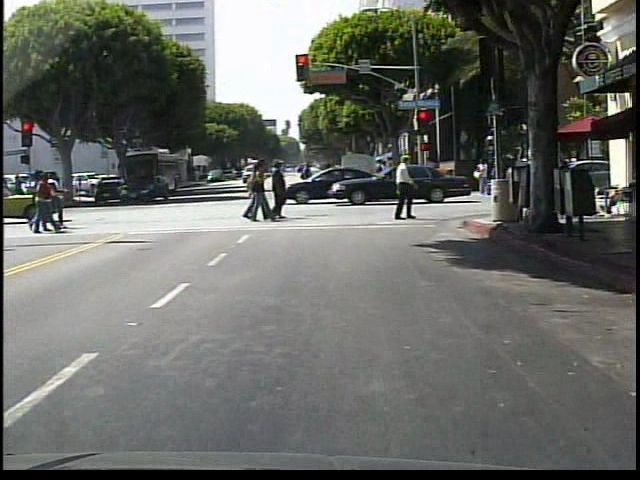person: (381, 149, 424, 228)
